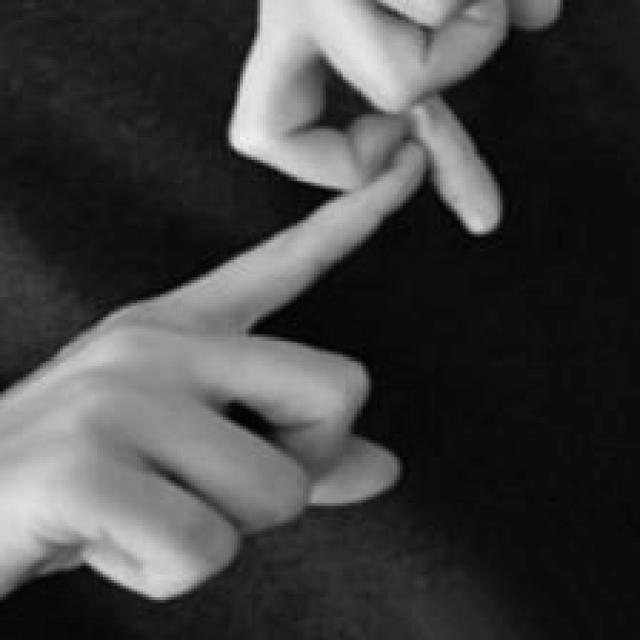R: (0, 4, 566, 608)
